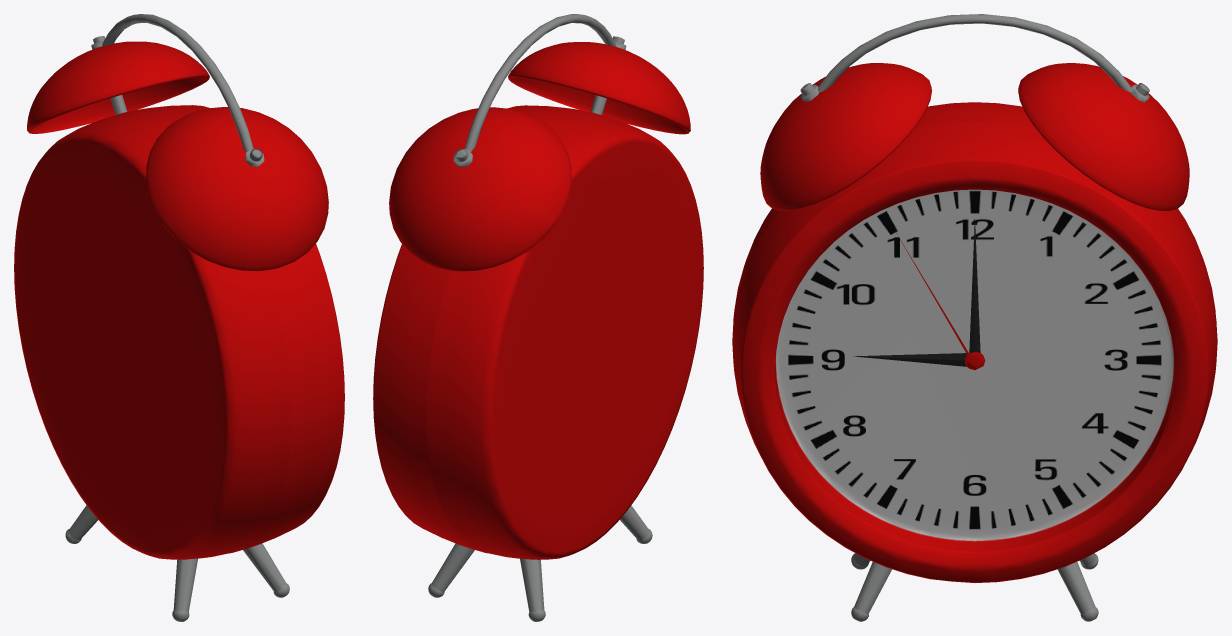
Rendered from alarm_clock_fbx_LOD2.fbx.
3 renders of one model, left to right at view 1: azimuth 30°, elevation 25°; view 2: azimuth 150°, elevation 25°; view 3: azimuth 270°, elevation 25°, orthographic. The views are drawn at different scales.
Parts seen in each view (by area): view 1: alarm_clock; view 2: alarm_clock; view 3: alarm_clock.
Boxes of the visible parts, x1,y1,x2,y2 form: alarm_clock: [14, 14, 344, 621]; alarm_clock: [373, 14, 703, 621]; alarm_clock: [732, 14, 1217, 621].
Bounding box in the file's own units: 191 × 600 × 455.
Materials: 2 (2 with a texture image).
